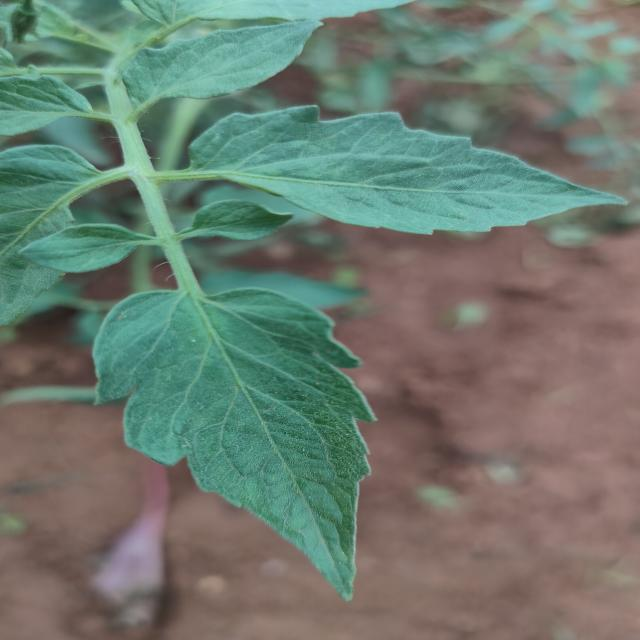tomato_healthy: (100, 288, 374, 598), (190, 110, 630, 236), (119, 14, 321, 96)
